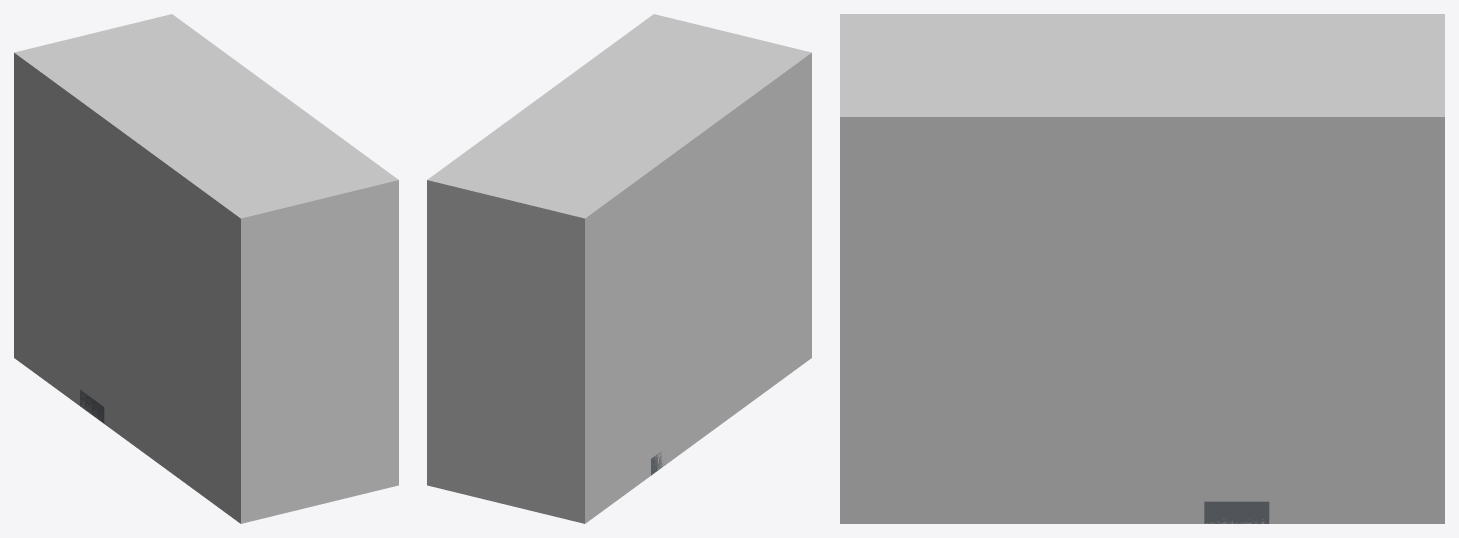
The model's file is FMS_Tool_WateringCan.fbx.
The picture shows the model from 3 angles, left to right: view 1: azimuth 30°, elevation 25°; view 2: azimuth 150°, elevation 25°; view 3: azimuth 270°, elevation 25°; orthographic projection. The views are drawn at different scales.
Parts seen in each view (by area): view 1: FMS_Tool_WateringCan_Col; view 2: FMS_Tool_WateringCan_Col; view 3: FMS_Tool_WateringCan_Col, FMS_Tool_WateringCan_LOD0.
Boxes of the visible parts, x1=… form: FMS_Tool_WateringCan_Col: x1=14, y1=14, x2=398, y2=523; FMS_Tool_WateringCan_Col: x1=427, y1=14, x2=811, y2=523; FMS_Tool_WateringCan_Col: x1=840, y1=14, x2=1444, y2=523; FMS_Tool_WateringCan_LOD0: x1=1204, y1=501, x2=1269, y2=523.
Size of what is drawn, in the model's own units: 0.1961 by 0.362 by 0.4873.
1 material, 1 textured.
